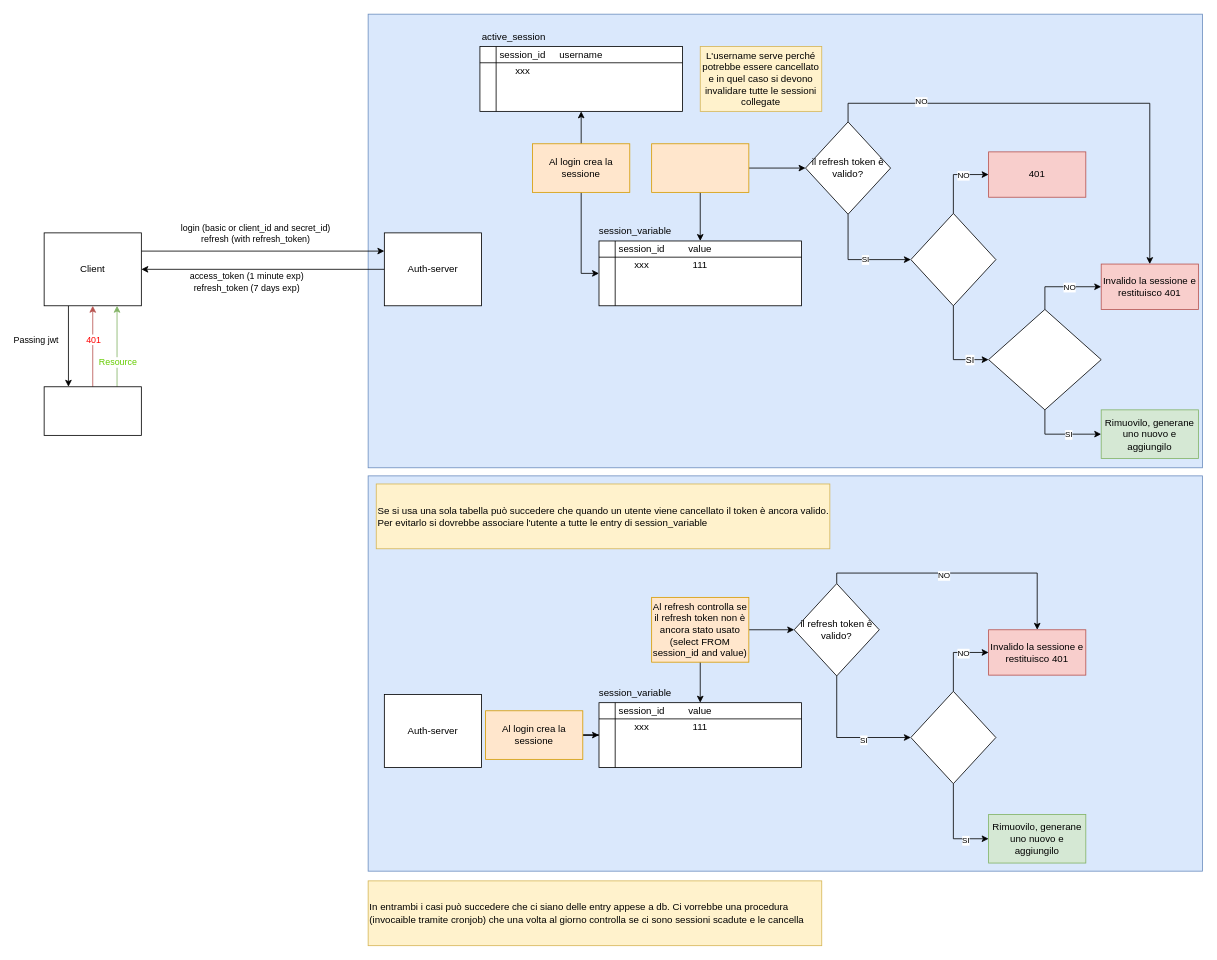
This 1217x960 diagram has some shape labels left out. Here are the shapes that lost their labels. From the top down, the centre of each, then its label:
At pixel 700 167: "Al refresh controlla se il refresh token non è ancora stato usato (select)".
At pixel 953 259: "la sessione è valida (esiste nel db)?".
At pixel 1044 359: "il token è nella tabella?(non usato)".
At pixel 92 410: "Application".
At pixel 953 737: "<session_id - value> esiste?".
